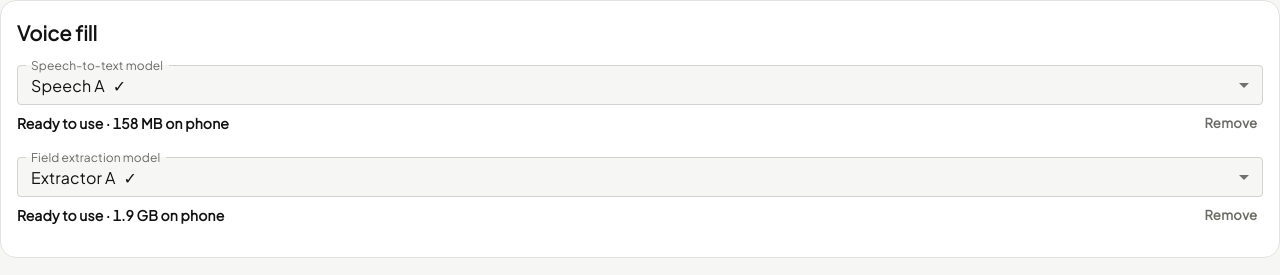
Test: the Voice Fill settings card › the dropdowns tick the models that are downloaded
This screenshot has width=1280, height=275.
Press the mouse on the dropdown named "Speech-to-text model" at point(79, 85), box [31,74,126,96]
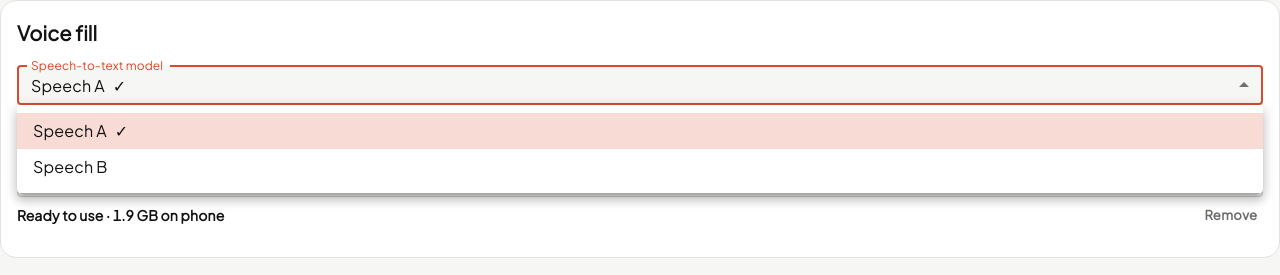
Now the picture named "downloaded" is shown, box [115,119,128,143]
